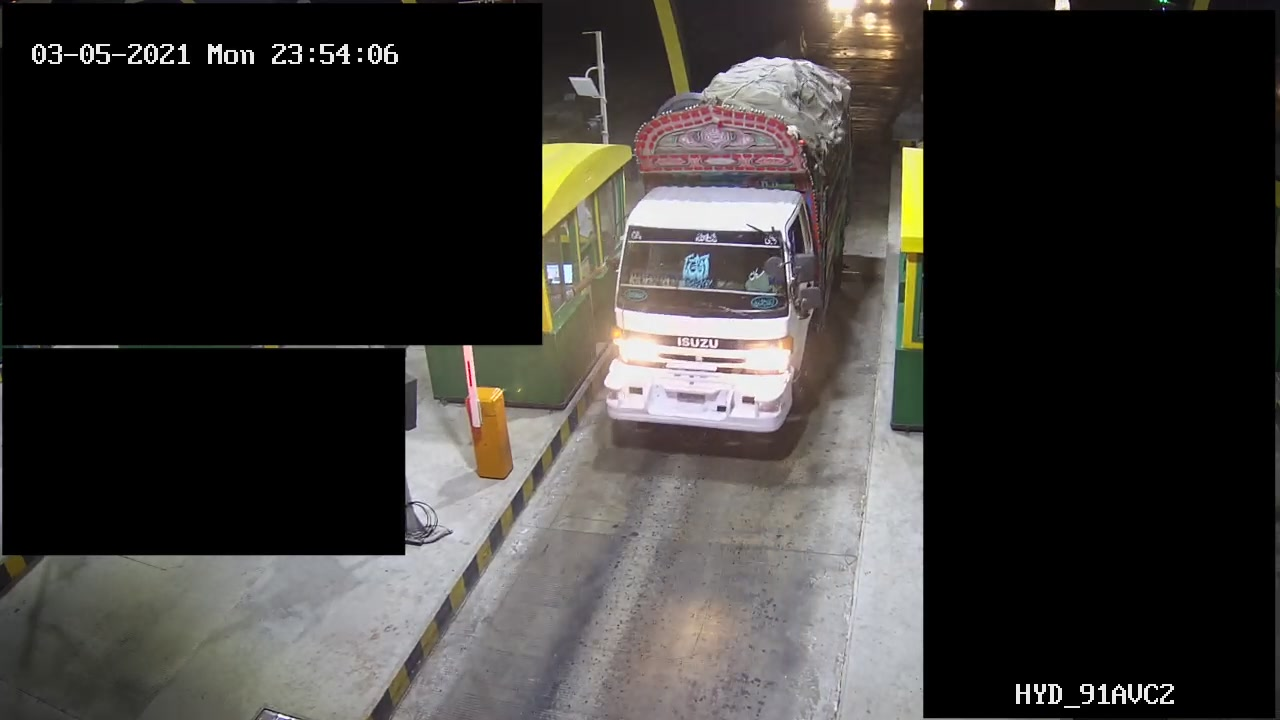F5: (599, 53, 858, 451)
